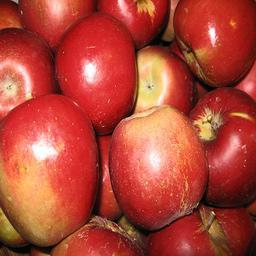apple: (1, 94, 99, 245), (107, 105, 205, 229), (54, 11, 139, 136), (190, 89, 256, 207), (174, 1, 256, 89), (146, 204, 255, 256), (1, 27, 59, 123), (135, 45, 197, 118), (18, 1, 98, 51), (50, 218, 146, 254), (94, 1, 169, 47), (1, 1, 23, 29)
